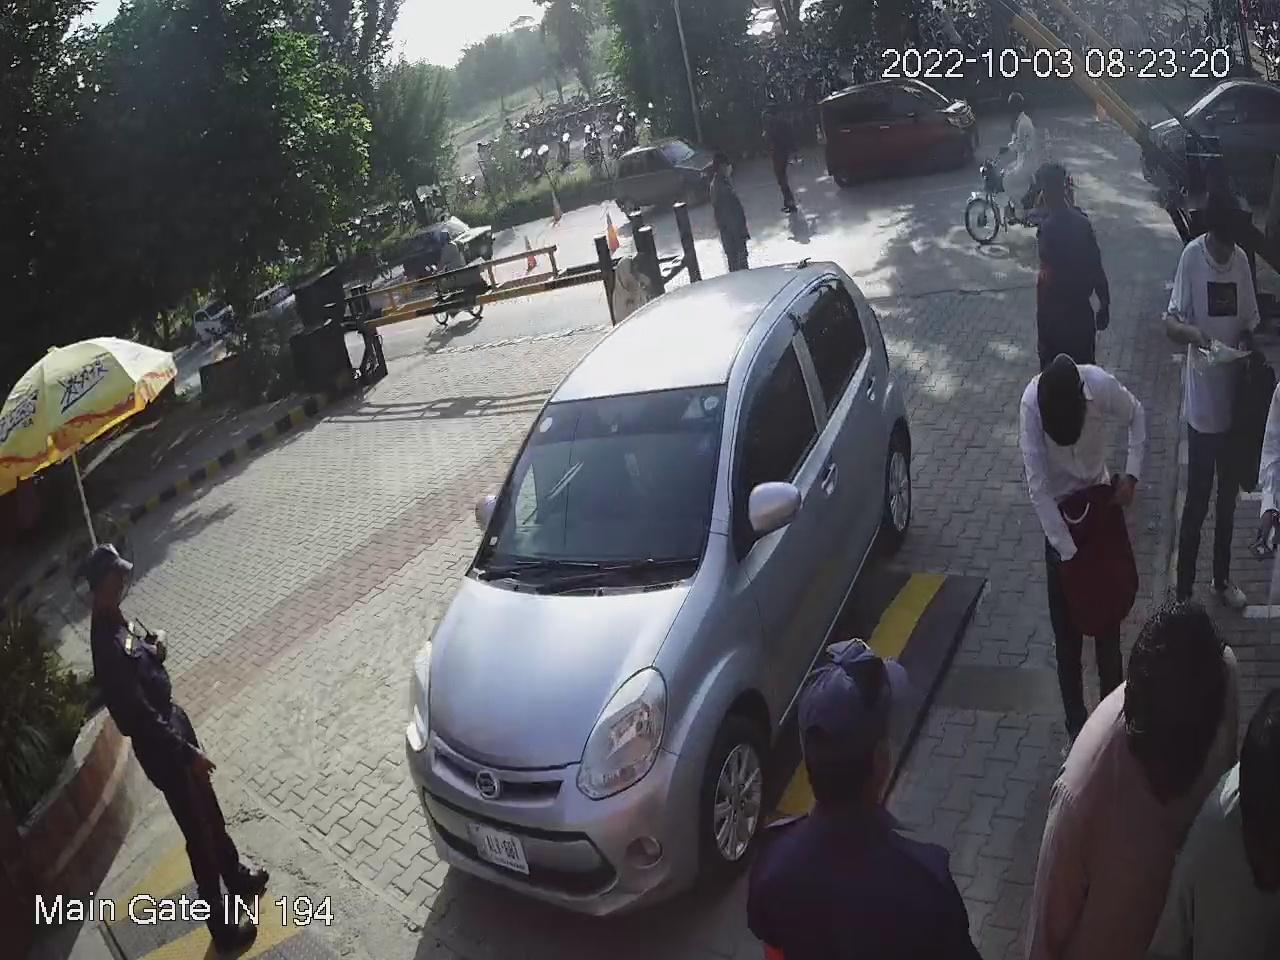windshield: (468, 362, 736, 593)
